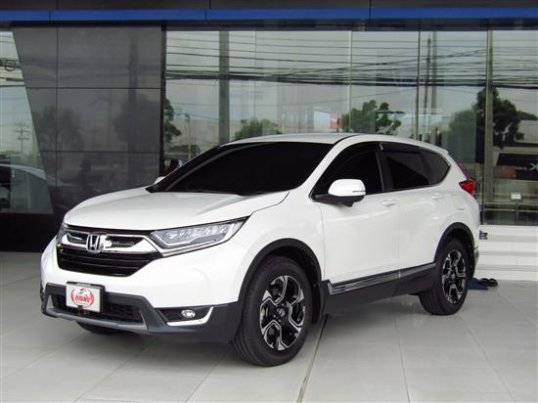pickup: (37, 131, 481, 368)
